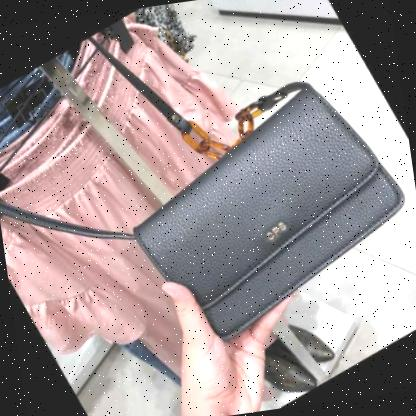bag: (98, 63, 416, 351)
